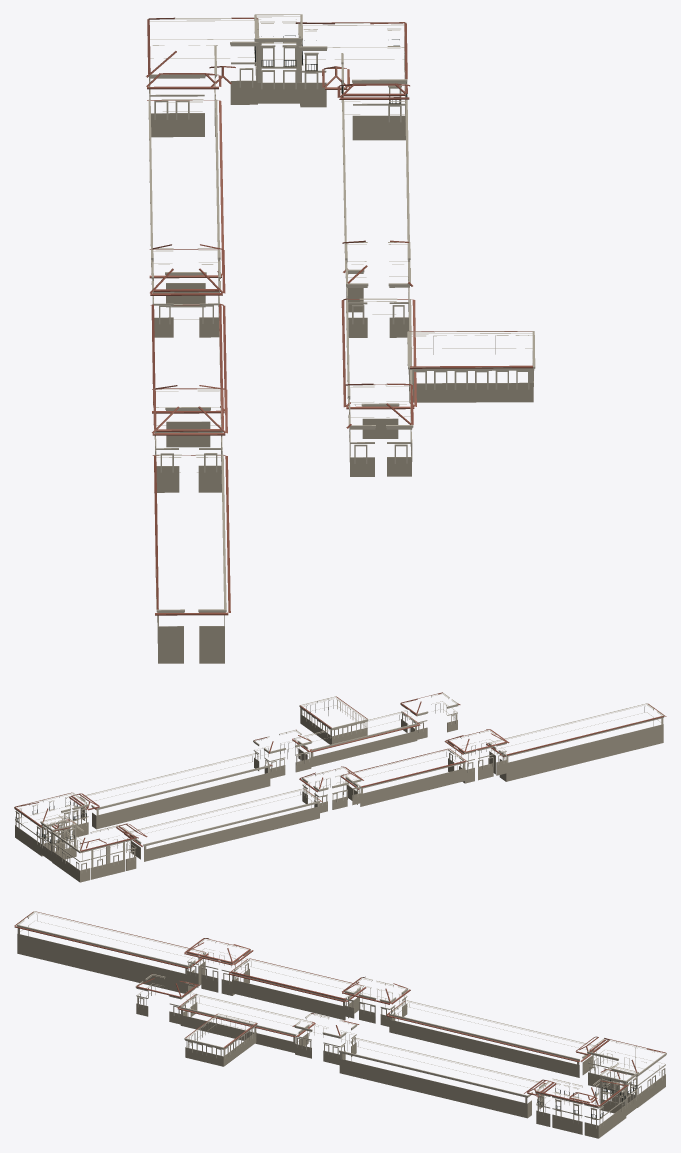
The picture shows the model from 3 angles, top to bottom: view 1: azimuth 30°, elevation 25°; view 2: azimuth 150°, elevation 25°; view 3: azimuth 270°, elevation 25°; orthographic projection. The views are drawn at different scales.
Visible parts, largest first — view 1: detail; view 2: detail; view 3: detail.
Boxes of the visible parts, <box> form: detail: <box>146,14,535,663</box>; detail: <box>14,692,666,882</box>; detail: <box>14,911,666,1138</box>.
Bounding box in the file's own units: 116 × 13.69 × 157.
